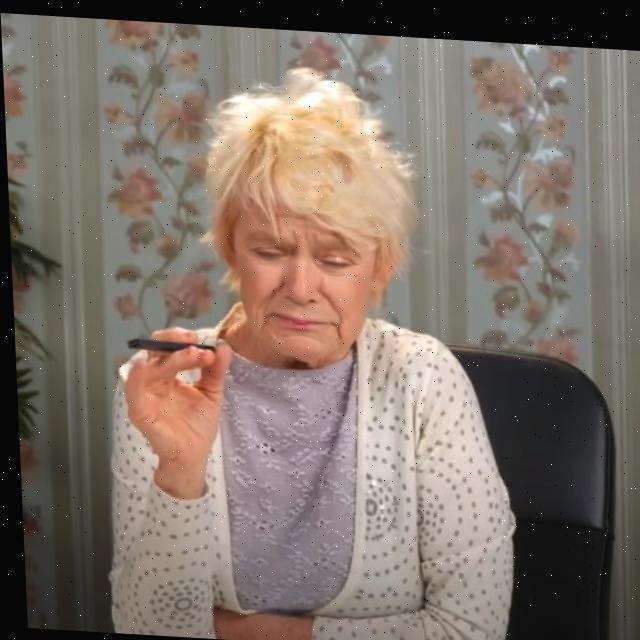vape: (125, 336, 213, 352)
